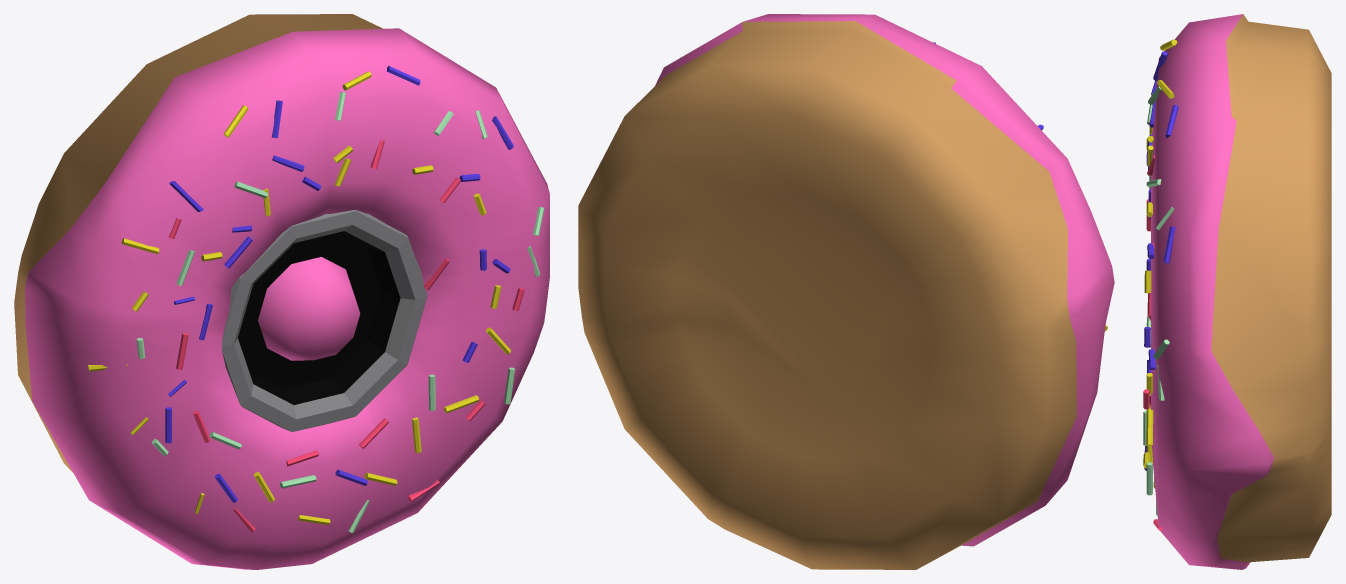
Rendered from wheel31.fbx.
The picture shows the model from 3 angles, left to right: view 1: azimuth 30°, elevation 25°; view 2: azimuth 150°, elevation 25°; view 3: azimuth 270°, elevation 25°; orthographic projection. The views are drawn at different scales.
Parts seen in each view (by area): view 1: lanot_wheel30_L; view 2: lanot_wheel30_L; view 3: lanot_wheel30_L.
Part boxes in pixels (x1,y1,x2,y2): lanot_wheel30_L: (14, 14, 549, 569); lanot_wheel30_L: (578, 14, 1114, 569); lanot_wheel30_L: (1143, 14, 1331, 569).
Bounding box in the file's own units: 156 × 158 × 53.57.
